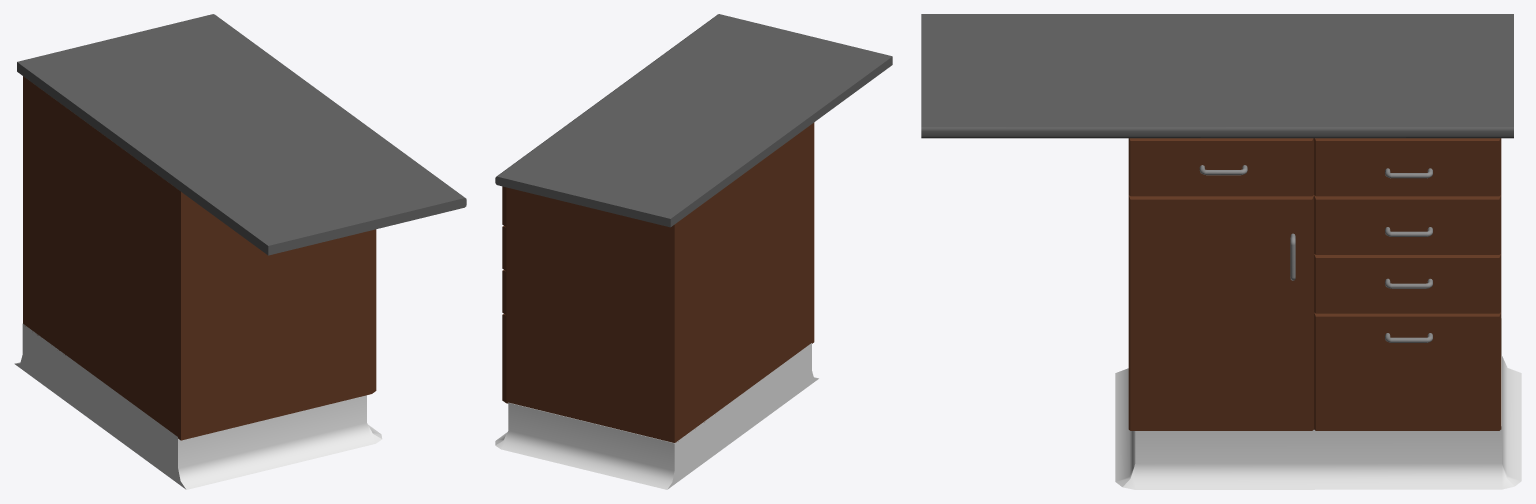
Rendered from counter_low.fbx.
3 renders of one model, left to right at view 1: azimuth 30°, elevation 25°; view 2: azimuth 150°, elevation 25°; view 3: azimuth 270°, elevation 25°, orthographic. The views are drawn at different scales.
Visible parts, largest first — view 1: SmartCombine_23; view 2: SmartCombine_23; view 3: SmartCombine_23.
Part boxes in pixels (<box>): SmartCombine_23: <box>14,14,466,489</box>; SmartCombine_23: <box>495,14,892,489</box>; SmartCombine_23: <box>921,14,1521,489</box>.
Size of the model in its own units: 67.79 by 94.87 by 144.
